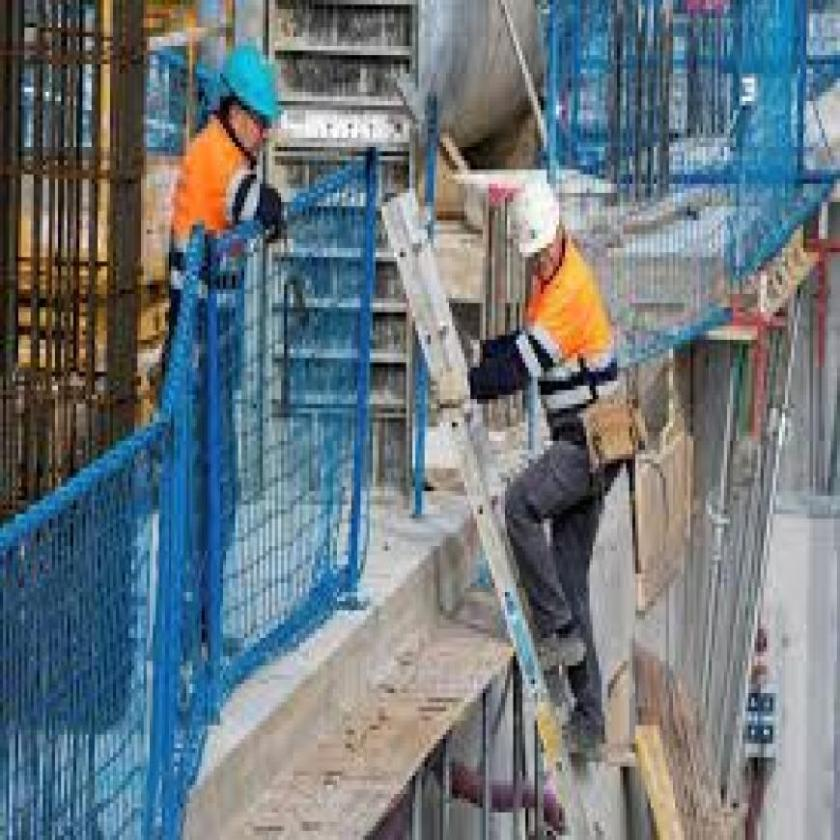Con_casco: (212, 38, 294, 159), (502, 173, 573, 292)
